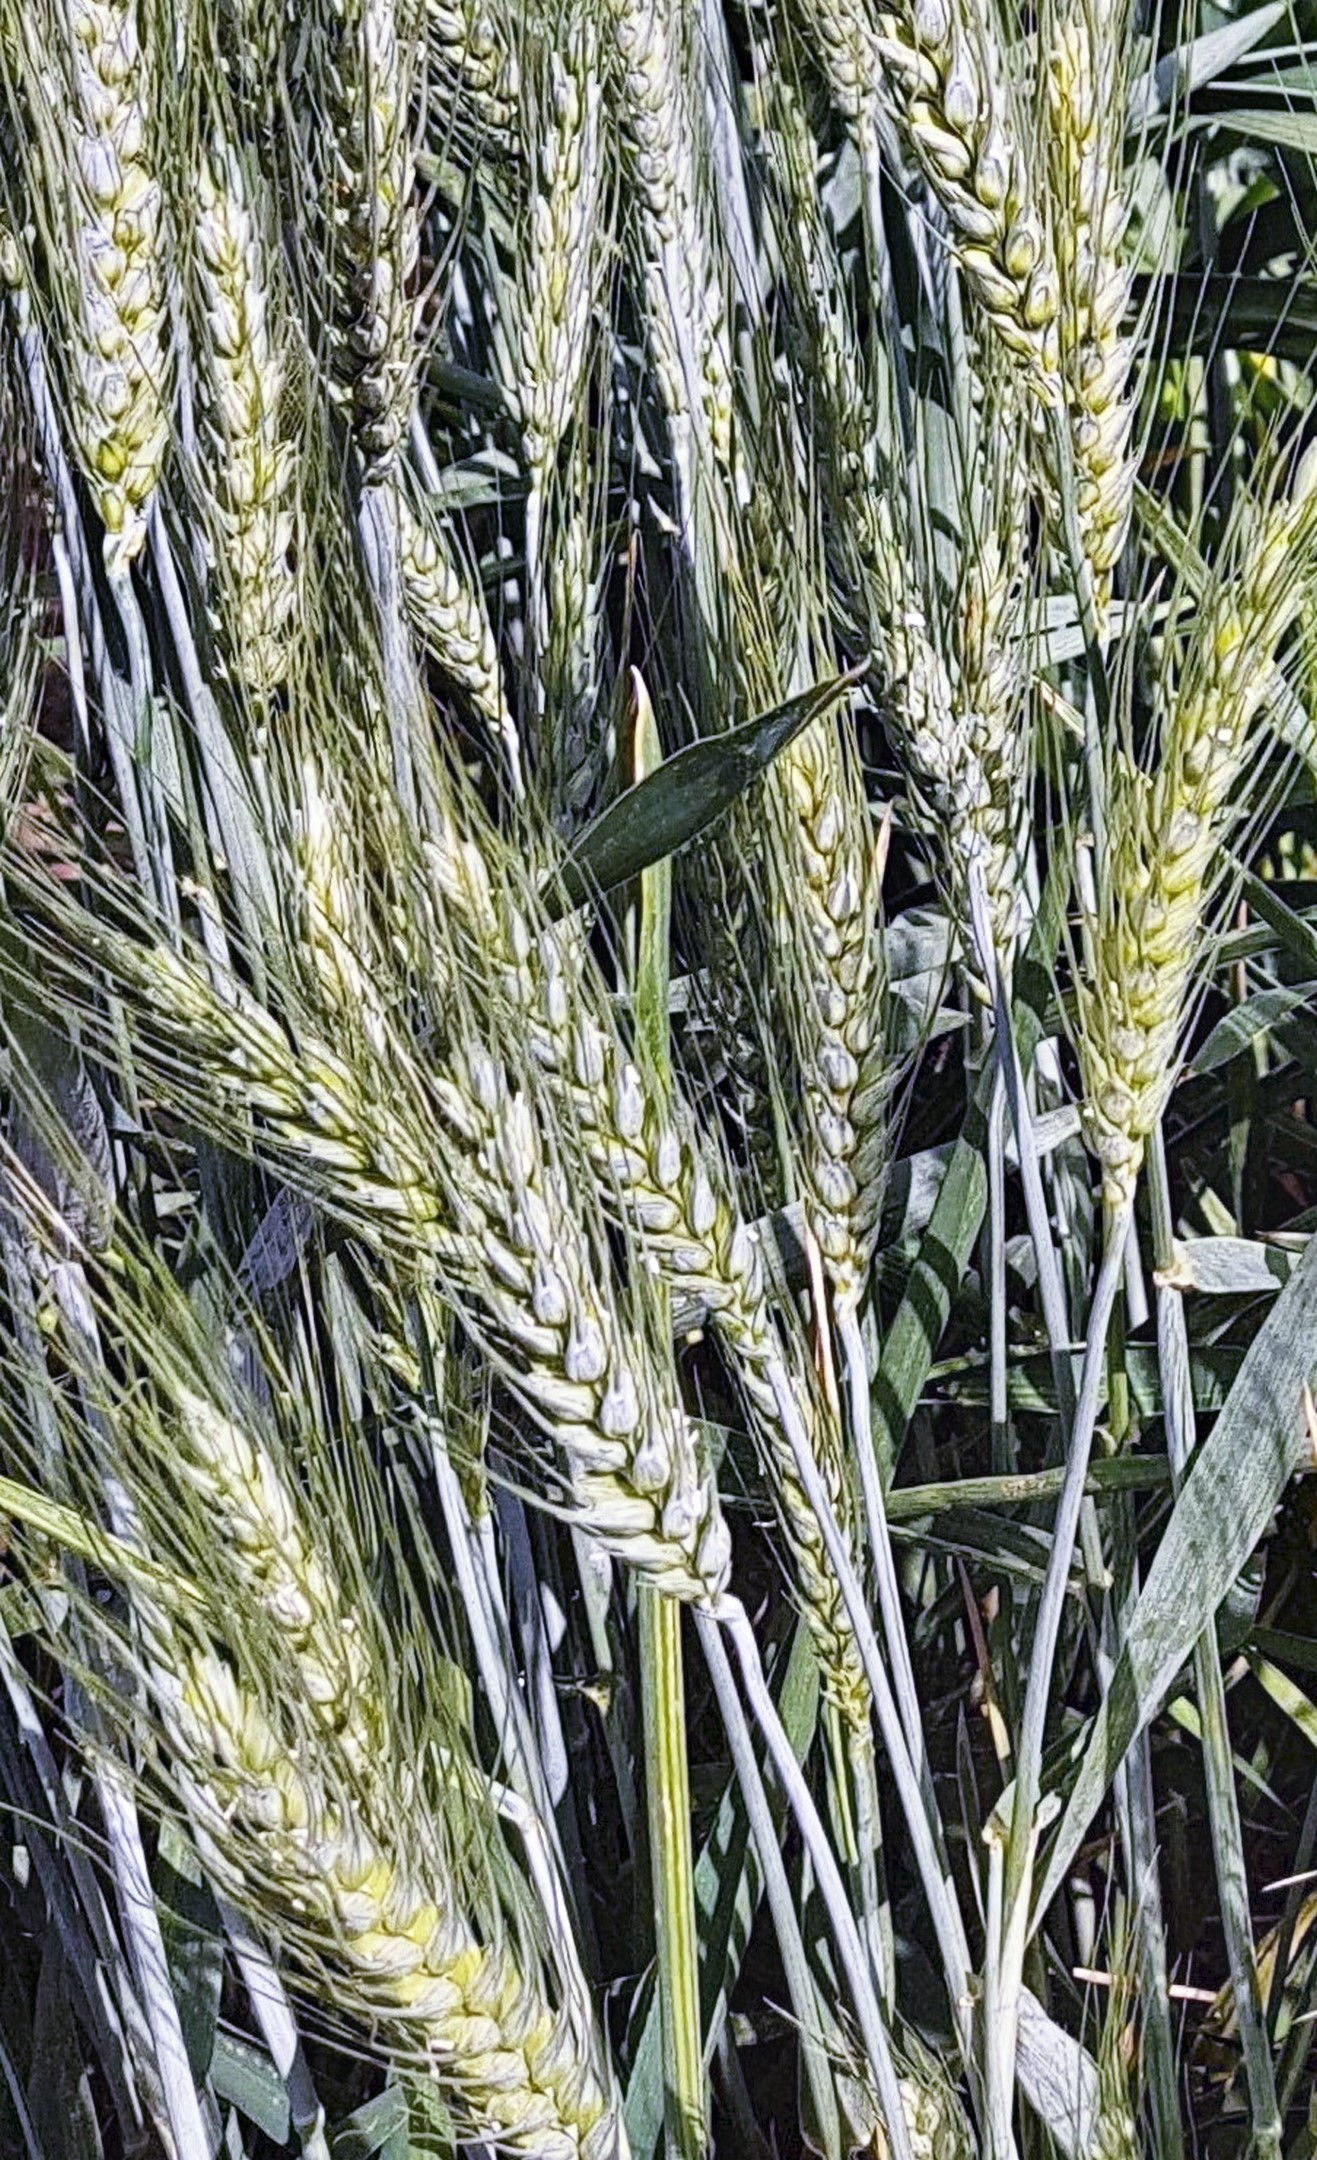Healthy Wheat: (130, 1652, 628, 2117), (409, 1031, 743, 1639), (1064, 488, 1317, 1190), (43, 12, 182, 548)
